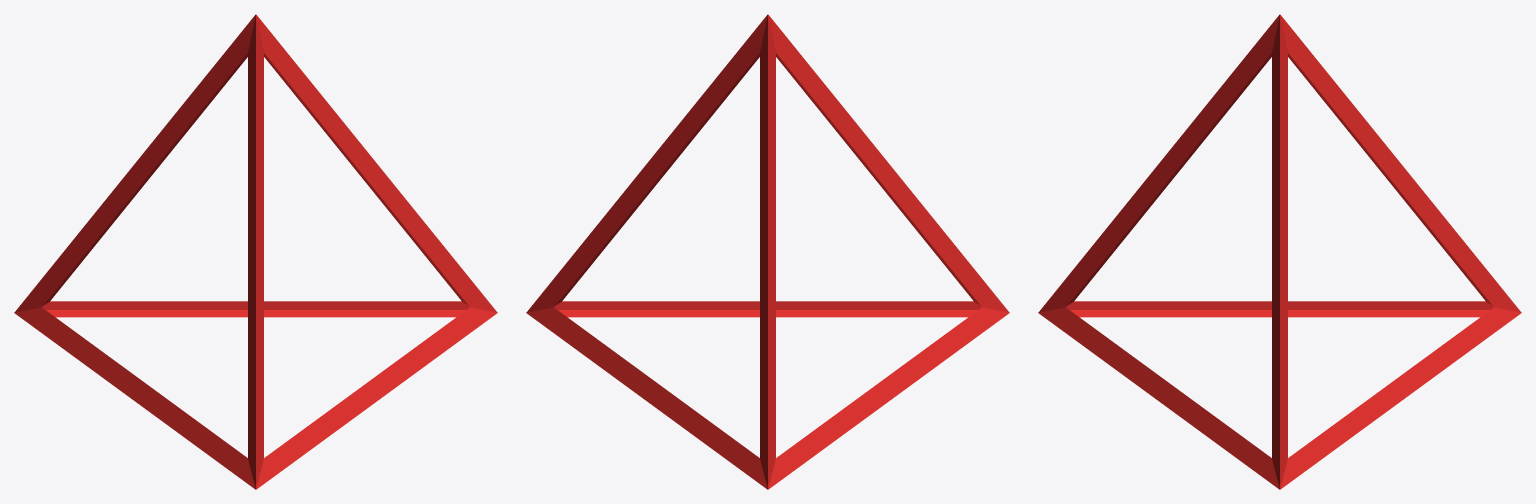
Rendered from Tetraedro_wireframe.glb.
3 views of the same model, side by side, from view 1: azimuth 30°, elevation 25°; view 2: azimuth 150°, elevation 25°; view 3: azimuth 270°, elevation 25° (orthographic).
Parts seen in each view (by area): view 1: Solid.003; view 2: Solid.003; view 3: Solid.003.
Boxes of the visible parts, bbox=[...] form: Solid.003: bbox=[14, 14, 497, 489]; Solid.003: bbox=[526, 14, 1009, 489]; Solid.003: bbox=[1038, 14, 1521, 489].
Bounding box in the file's own units: 1.48 × 1.4 × 1.71.
